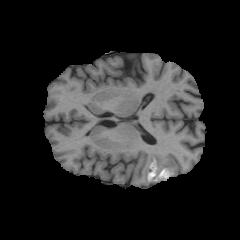glioma: (143, 152, 182, 185)
